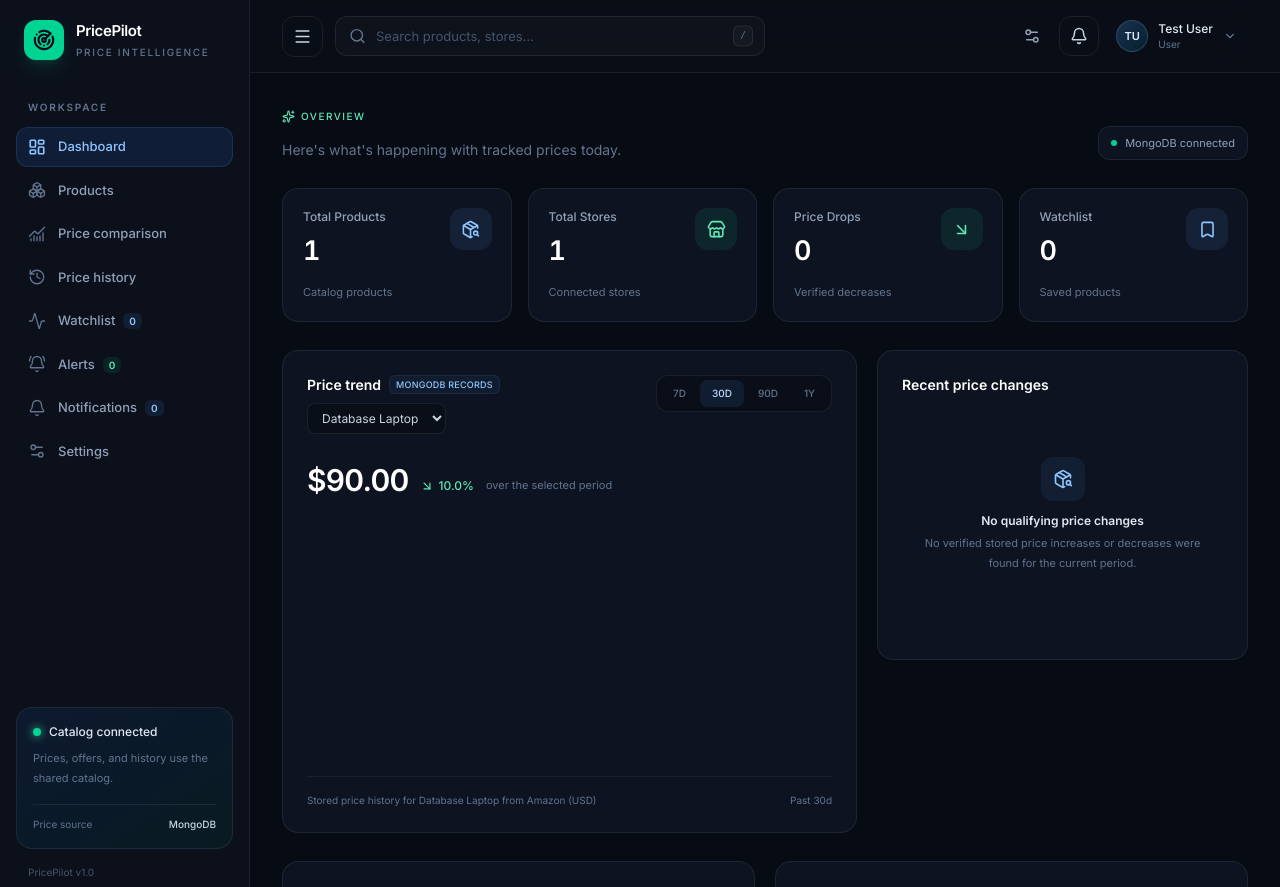
user dashboard data integrity › loads real observations for each selected trend period
Check: the text "10.0%" is shown, box [420,478,474,494]
What coordinates should you click on to do the following:
click the button "7D"
I would click on:
 (679, 393)
Its box is [661,380,698,406].
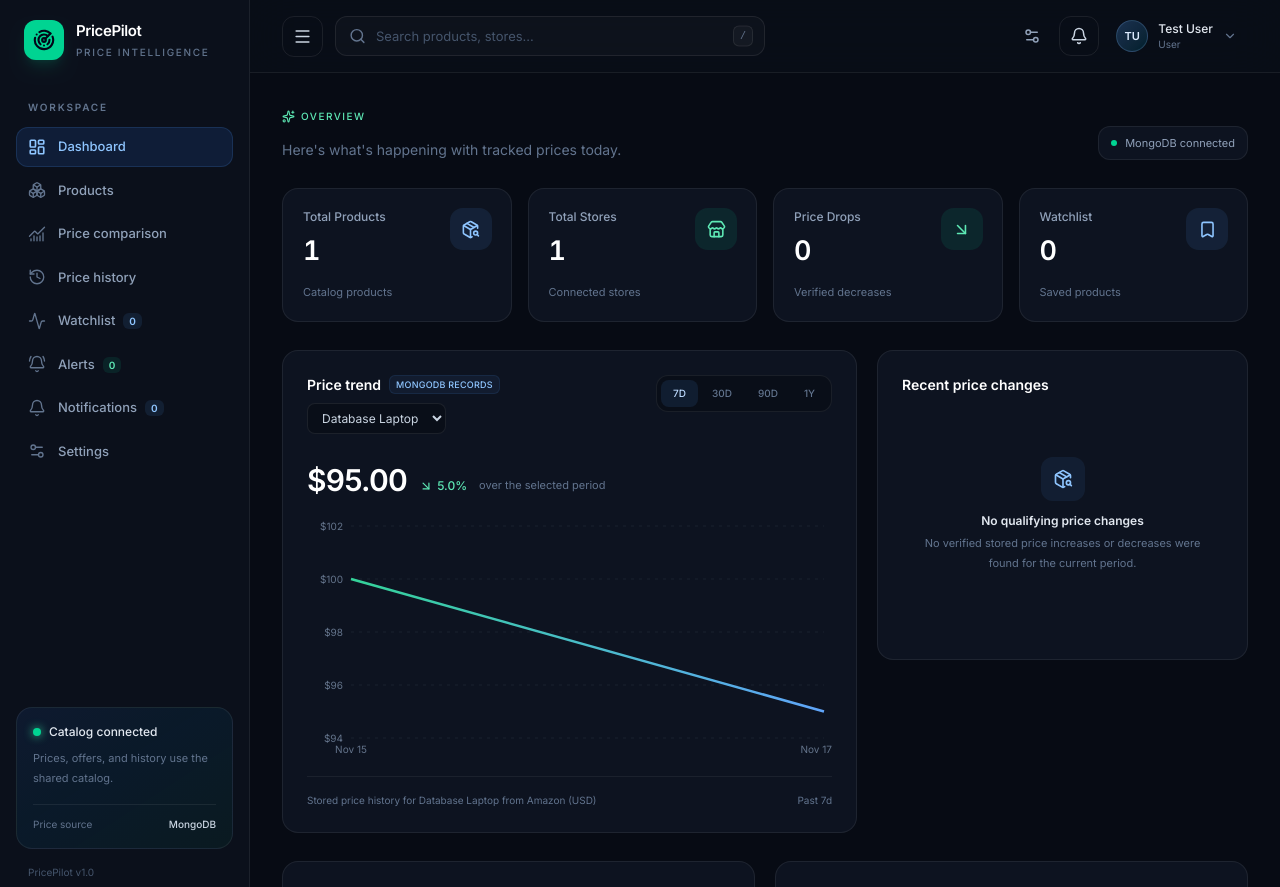
Check: the text "5.0%" is shown, box [419,478,467,494]
